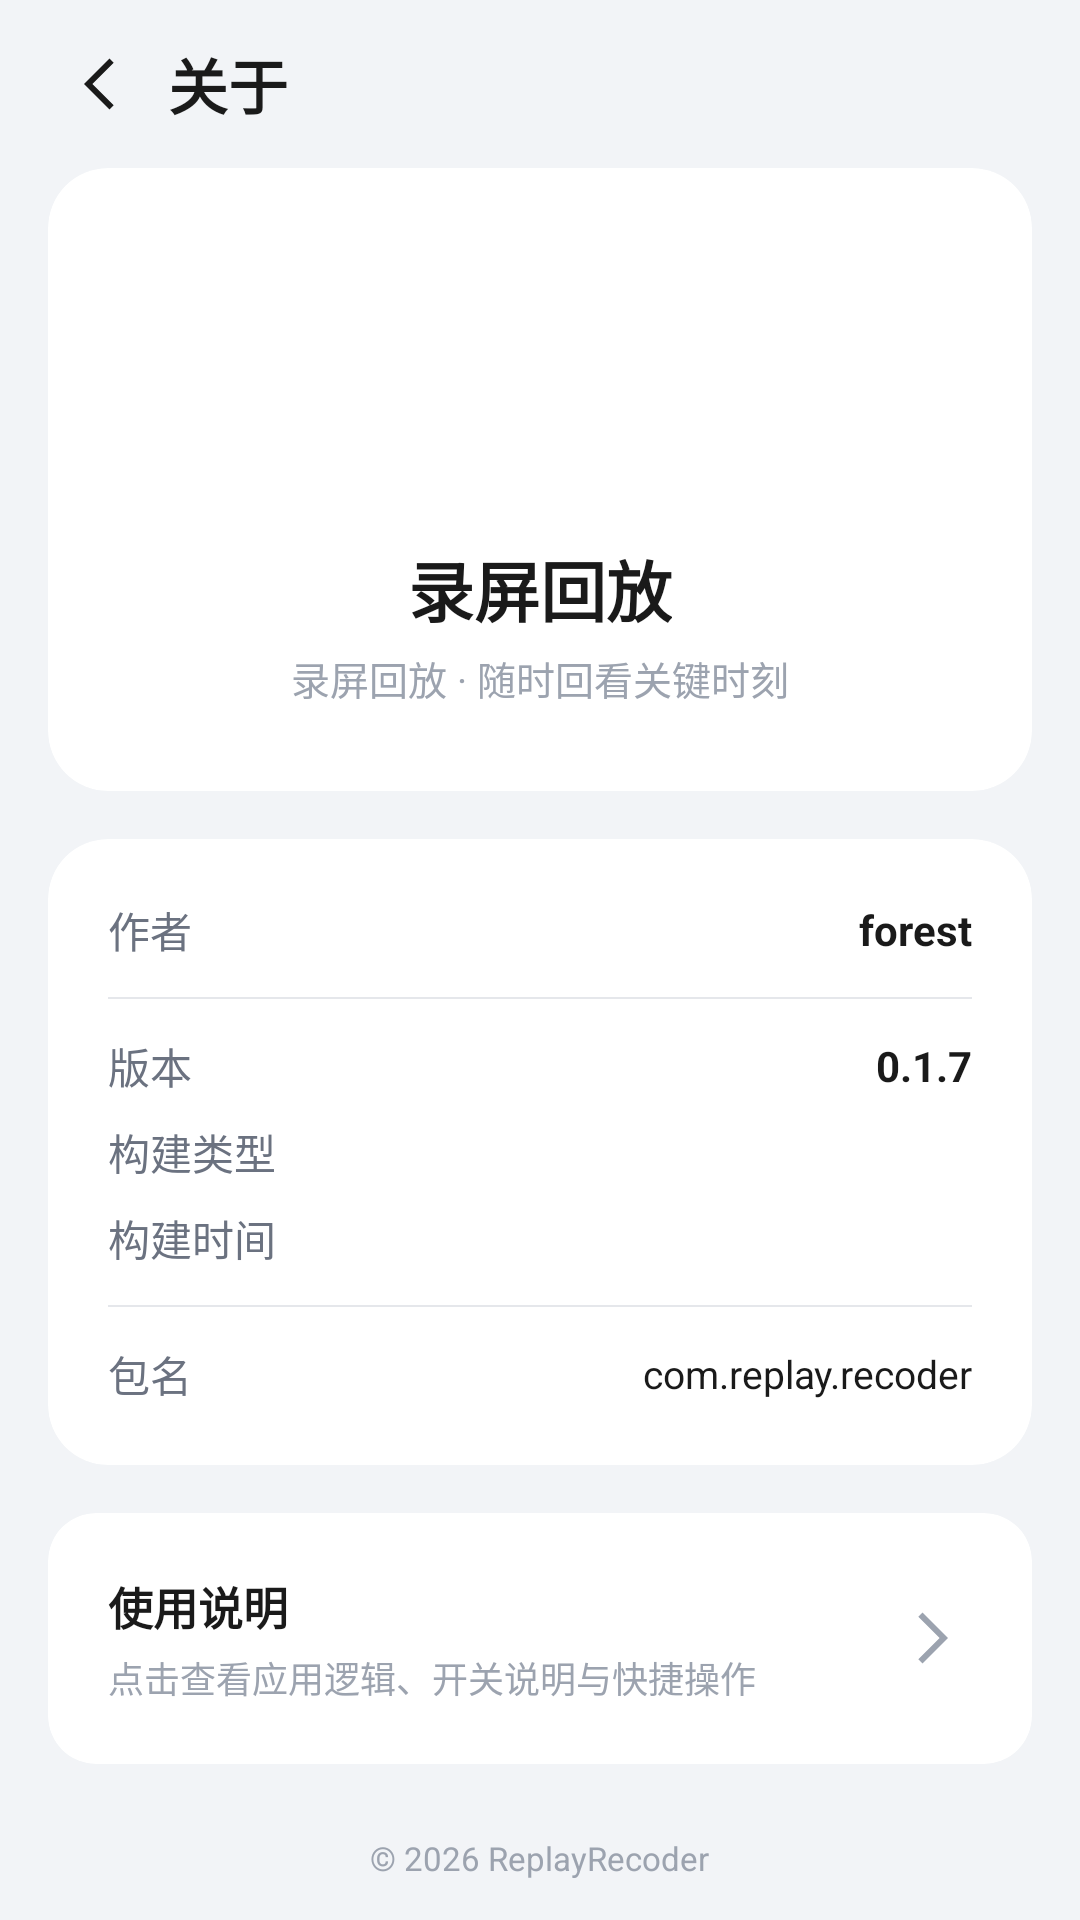

Point at icon controls on the screen. Image size 1080px×1920px, points as (x=x, y=y).
返回: (x=99, y=84)
